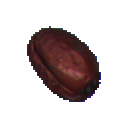ng: (18, 21, 110, 113)
